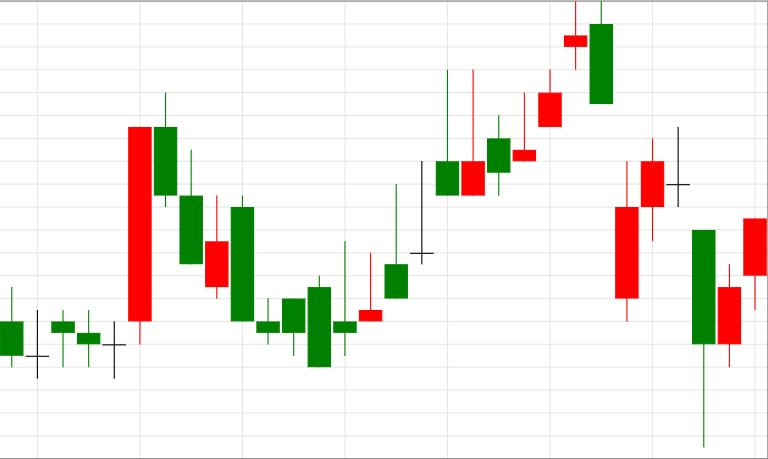bearish_engulfing_fall: (462, 2, 613, 197)
shooting_star_fall: (308, 71, 485, 368), (308, 70, 459, 368)
